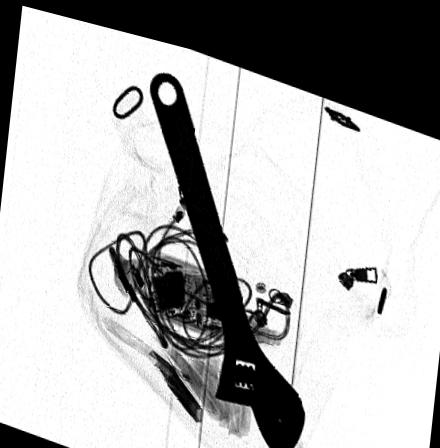Wrench: (145, 62, 306, 448)
